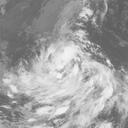cyclone: (29, 40, 105, 107)
